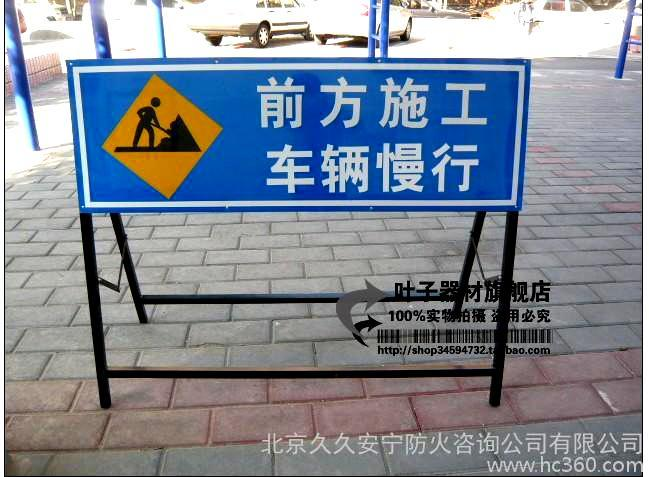sign: (74, 65, 527, 207)
